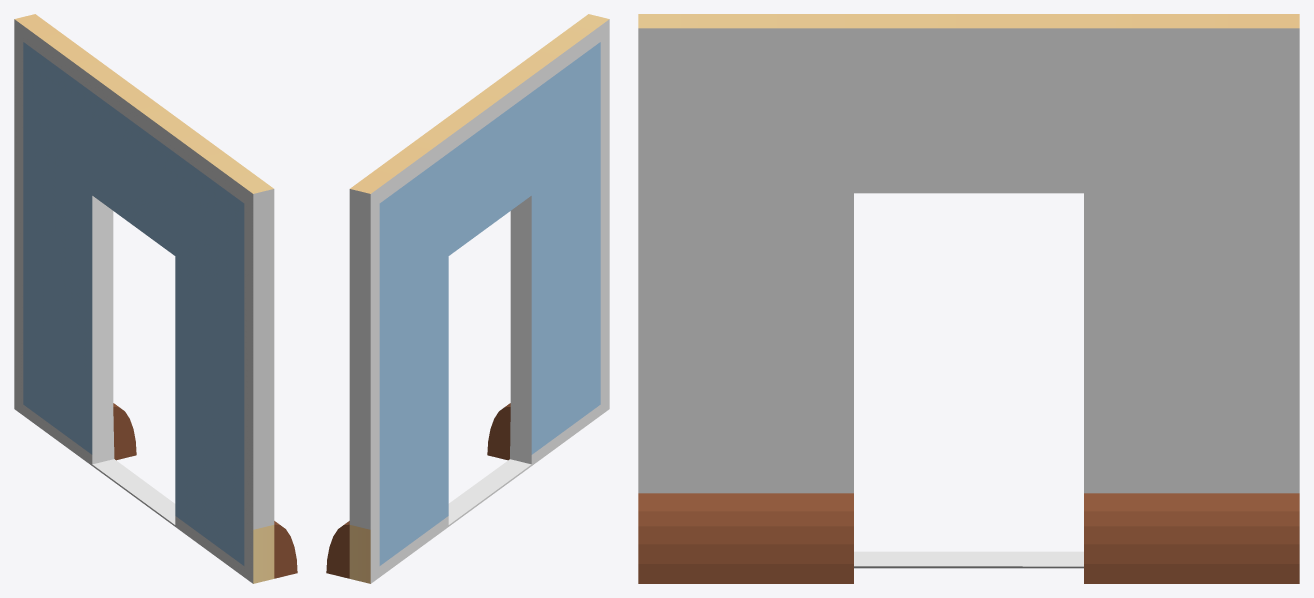
Rendered from Wall-with-door-socket-A.fbx.
The picture shows the model from 3 angles, left to right: view 1: azimuth 30°, elevation 25°; view 2: azimuth 150°, elevation 25°; view 3: azimuth 270°, elevation 25°; orthographic projection. The views are drawn at different scales.
Visible parts, largest first — view 1: Wall-with-door A; view 2: Wall-with-door A; view 3: Wall-with-door A.
Boxes of the visible parts, x1,y1,x2,y2 form: Wall-with-door A: [14, 14, 297, 583]; Wall-with-door A: [326, 14, 609, 583]; Wall-with-door A: [638, 14, 1299, 583].
Bounding box in the file's own units: 85.83 × 721 × 800.
